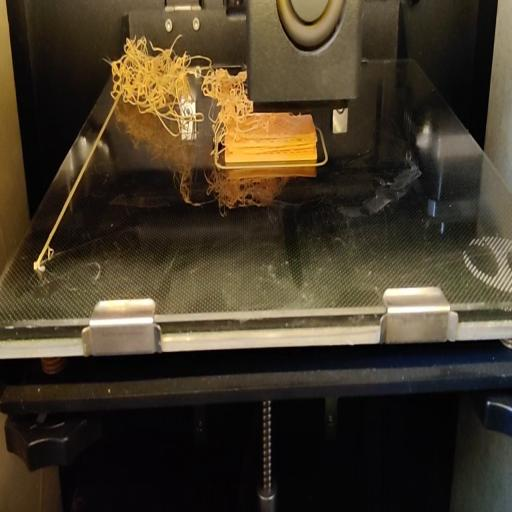spaghetti: (102, 30, 206, 140), (207, 68, 248, 152)
